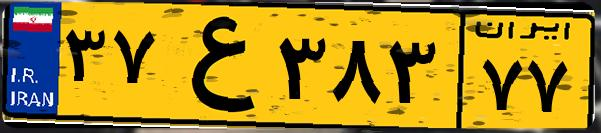3: (270, 28, 330, 110), (385, 28, 445, 110), (57, 26, 110, 100)
7: (475, 38, 525, 113), (525, 38, 570, 115), (110, 28, 158, 98)
8: (330, 28, 385, 110)
ع: (158, 12, 270, 120)
